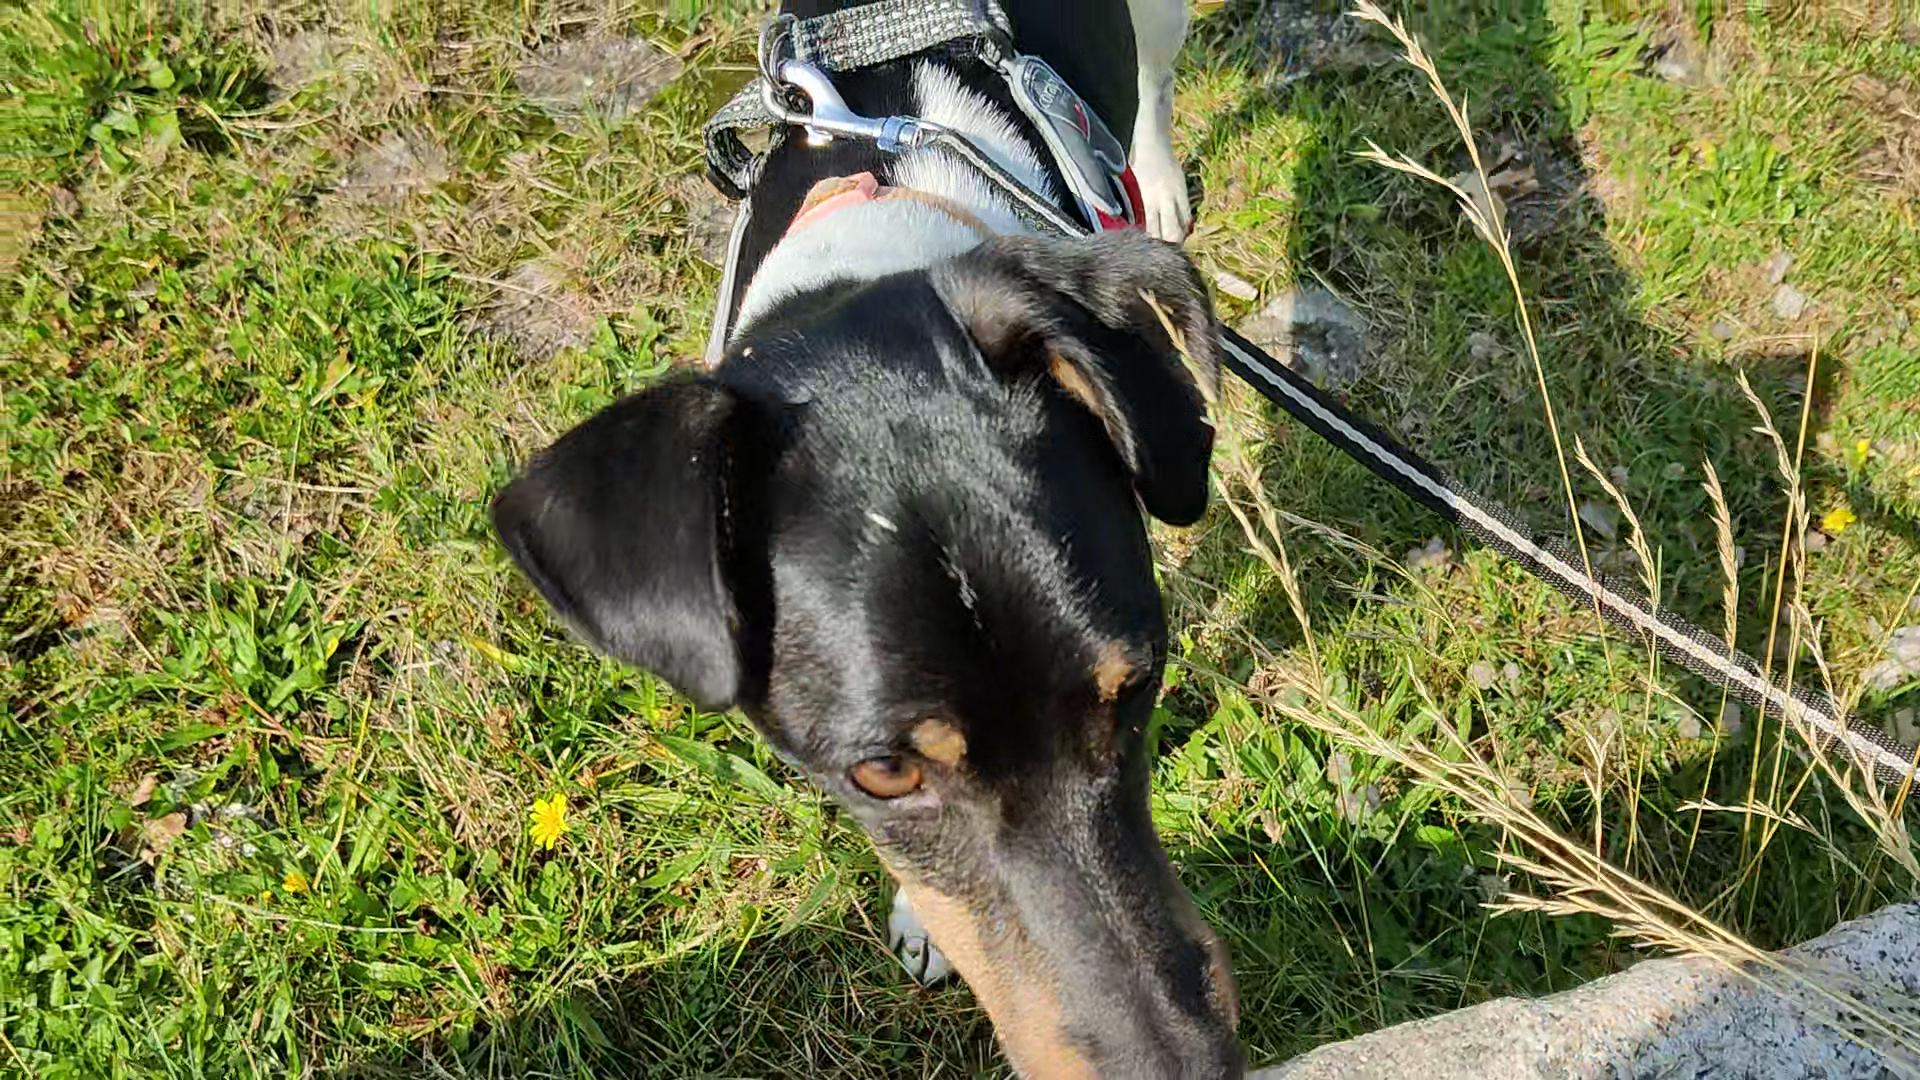Dog: (481, 0, 1269, 1079)
